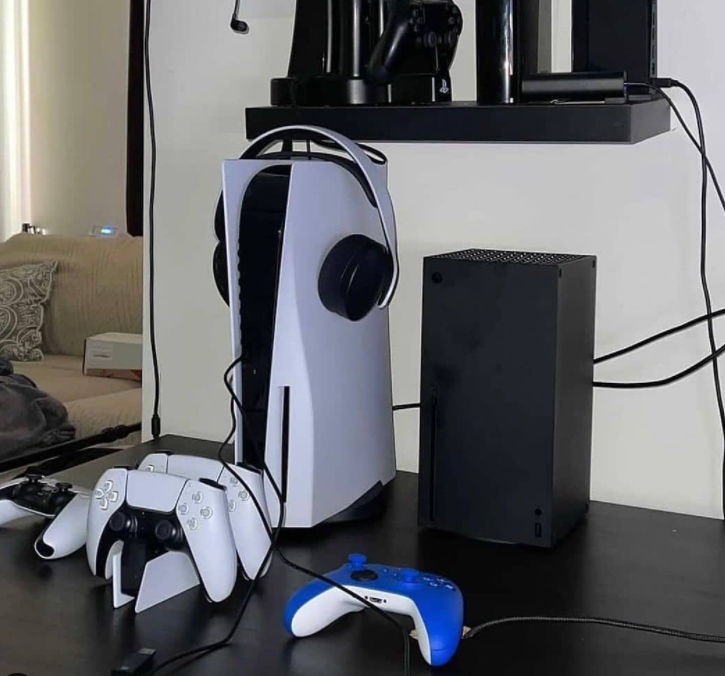gamingconsole: (88, 467, 237, 605), (286, 553, 464, 666)
